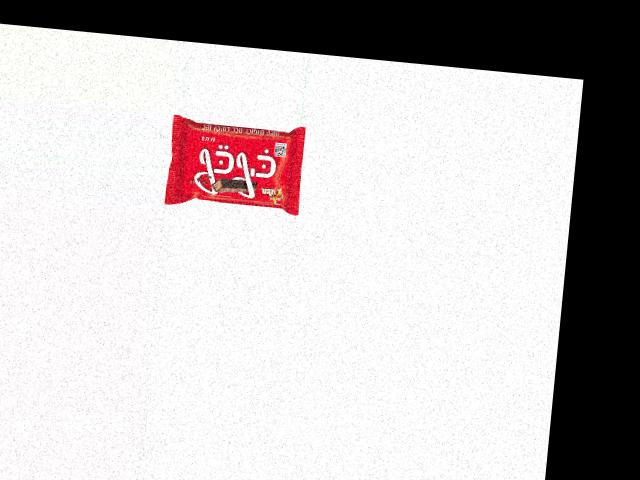chocolate: (165, 112, 306, 216)
